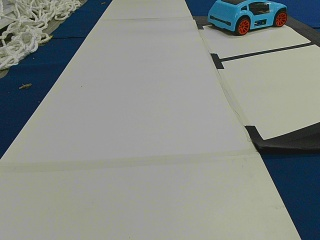car: (208, 1, 288, 35)
